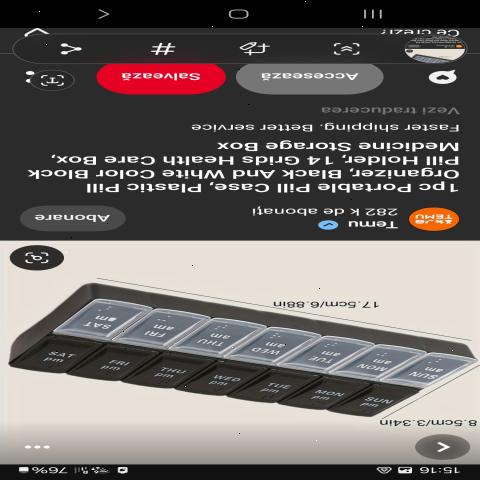PillBox: (1, 270, 473, 425)
